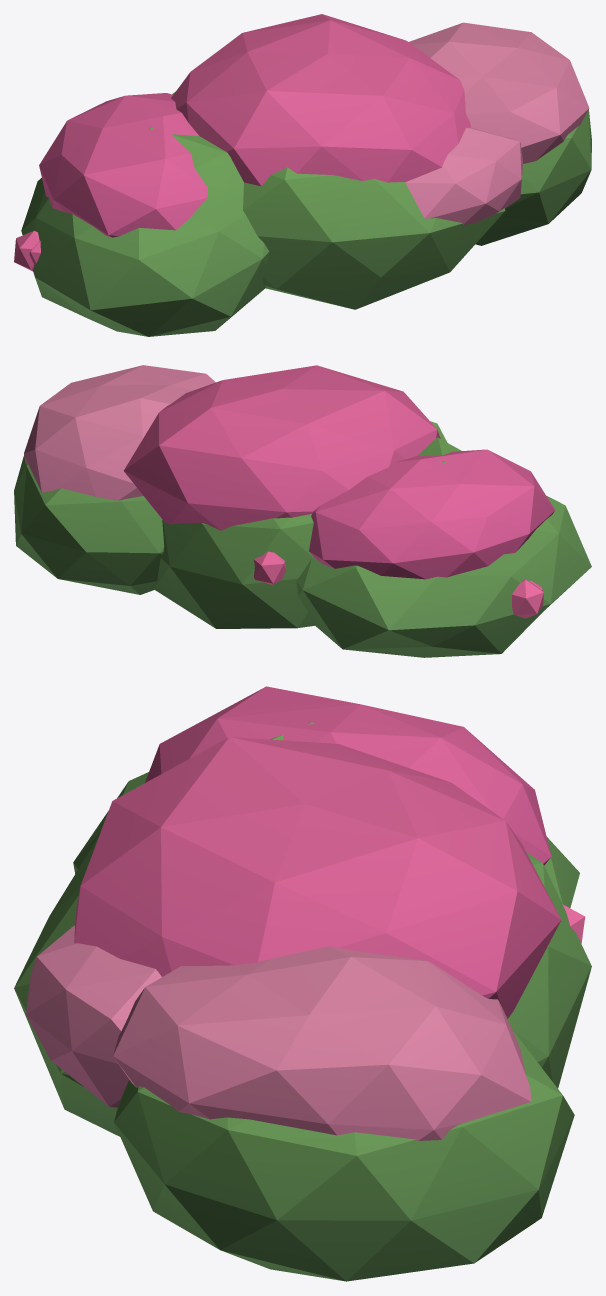
The model's file is azalea.glb.
The picture shows the model from 3 angles, top to bottom: view 1: azimuth 30°, elevation 25°; view 2: azimuth 150°, elevation 25°; view 3: azimuth 270°, elevation 25°; orthographic projection. The views are drawn at different scales.
Visible parts, largest first — view 1: azalea; view 2: azalea; view 3: azalea.
Part boxes in pixels (left/top/right/bottom): azalea: left=14, top=14, right=591, bottom=336; azalea: left=14, top=365, right=591, bottom=657; azalea: left=14, top=686, right=591, bottom=1281.
Size of the model in its own units: 2.48 by 1.02 by 1.45.
